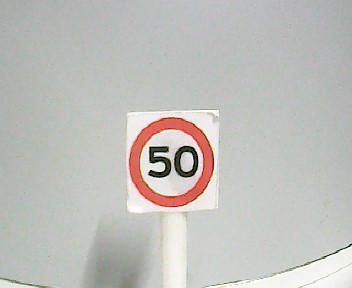50-bord: (127, 117, 215, 207)
